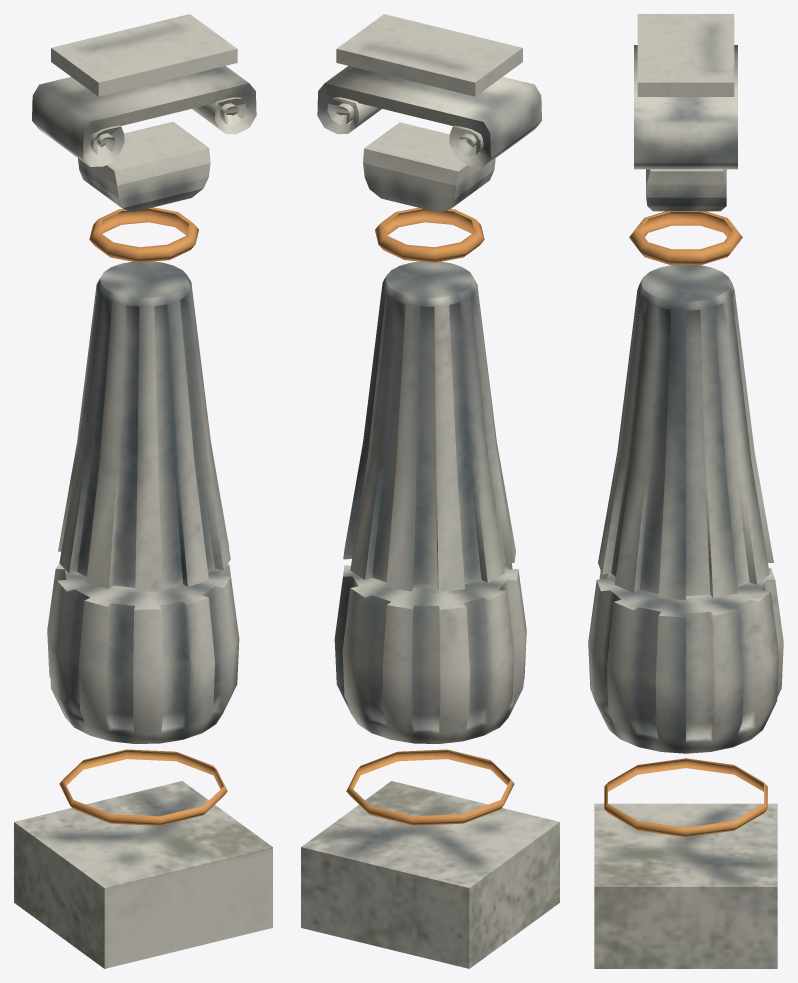
The model's file is pillar_parts.fbx.
3 renders of one model, left to right at view 1: azimuth 30°, elevation 25°; view 2: azimuth 150°, elevation 25°; view 3: azimuth 270°, elevation 25°, orthographic.
Parts seen in each view (by area): view 1: upershift, pillarbase, lower_shift, scroll, overpillar, pillow, lower_circle, upper_circke; view 2: upershift, pillarbase, lower_shift, scroll, overpillar, pillow, lower_circle, upper_circke; view 3: upershift, pillarbase, lower_shift, overpillar, scroll, lower_circle, pillow, upper_circke.
Part boxes in pixels (box(x1,y1,x2,y2)): upershift: box(58, 261, 230, 591); pillarbase: box(14, 781, 272, 968); lower_shift: box(47, 563, 239, 743); scroll: box(32, 66, 256, 166); overpillar: box(51, 14, 237, 96); pillow: box(78, 121, 210, 212); lower_circle: box(59, 749, 227, 825); upper_circke: box(89, 207, 198, 262); upershift: box(343, 261, 515, 591); pillarbase: box(301, 781, 559, 968); lower_shift: box(334, 562, 526, 743); scroll: box(317, 66, 541, 166); overpillar: box(336, 14, 522, 96); pillow: box(363, 122, 495, 212); lower_circle: box(346, 749, 514, 825); upper_circke: box(375, 207, 484, 262); upershift: box(598, 265, 773, 600); pillarbase: box(594, 803, 777, 968); lower_shift: box(588, 568, 783, 753); overpillar: box(637, 14, 734, 96); scroll: box(634, 45, 737, 169); lower_circle: box(604, 758, 767, 837); pillow: box(646, 169, 726, 211); upper_circke: box(629, 211, 742, 264).
Size of the model in its own units: 83.88 by 400 by 80.69.
